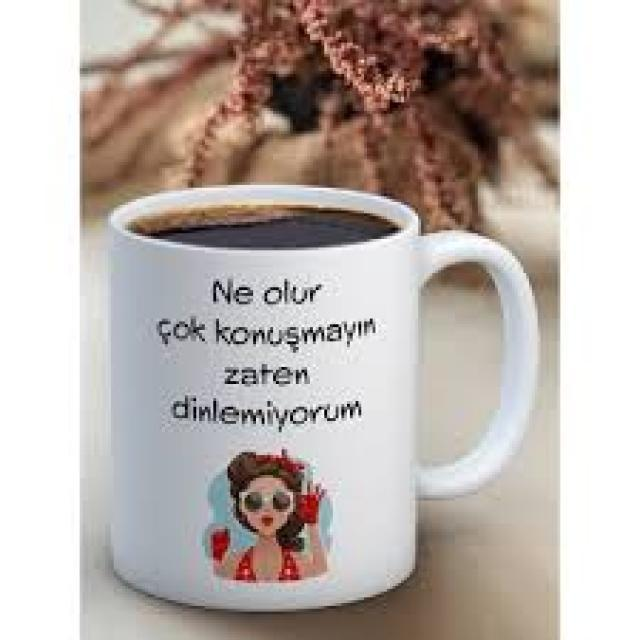taza: (107, 183, 540, 609)
